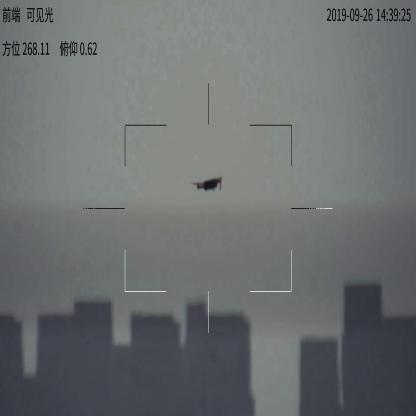uav: (190, 176, 226, 192)
